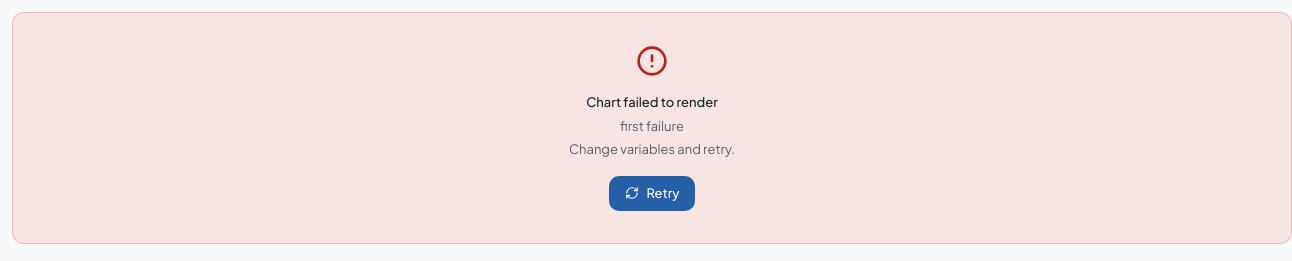
Test: AnalysisErrorBoundary › retries after the user clicks Retry
The image size is (1292, 261).
expect the message shows "Chart failed to render": met, box [586,94,718,110]
Click the button "Retry".
click(652, 193)  # box [608,176,695,211]
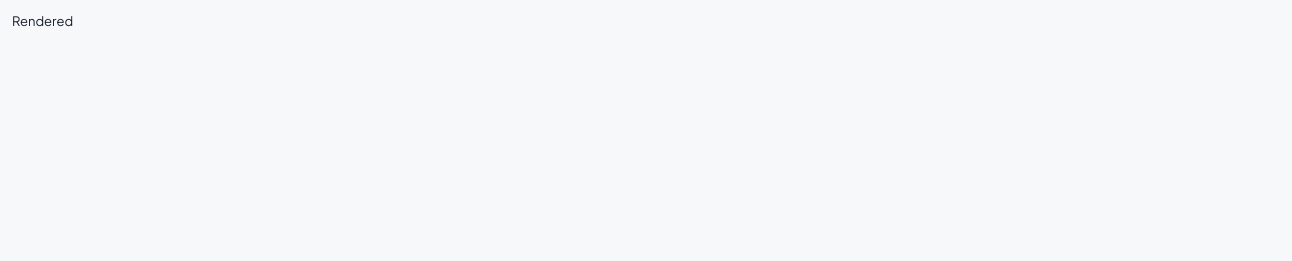
expect the text "Rendered" is shown: met, box [12,13,73,29]
